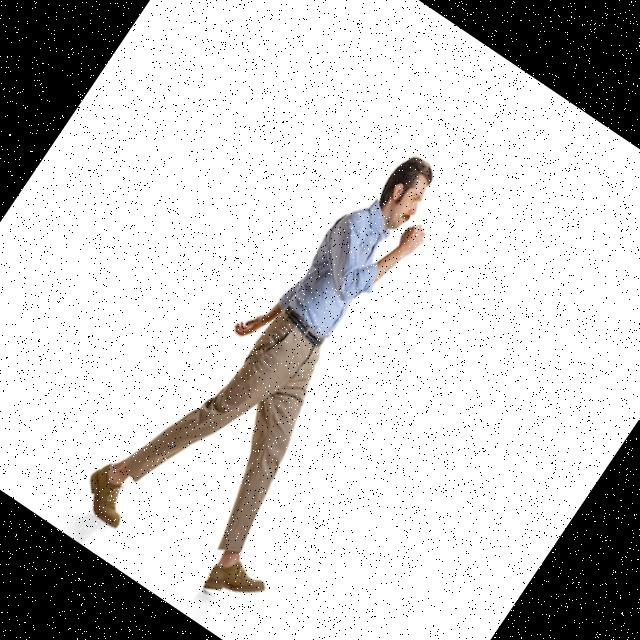Person: (72, 104, 514, 618)
